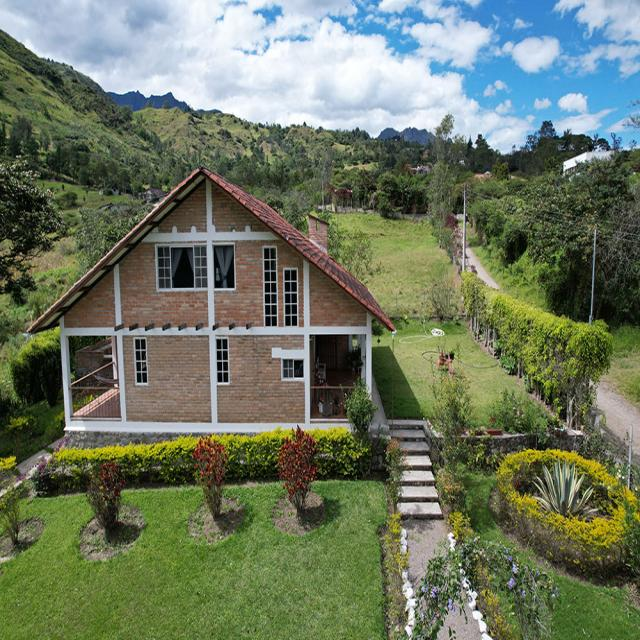Fachada: (30, 167, 394, 443)
